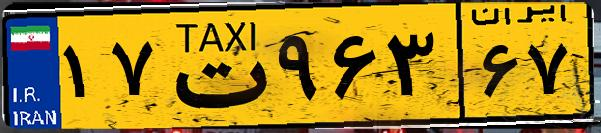1: (57, 26, 110, 100)
3: (385, 28, 445, 110)
6: (330, 28, 385, 110), (475, 38, 525, 113)
7: (525, 38, 570, 115), (110, 28, 158, 98)
9: (270, 28, 330, 110)
ت: (158, 12, 270, 120)
